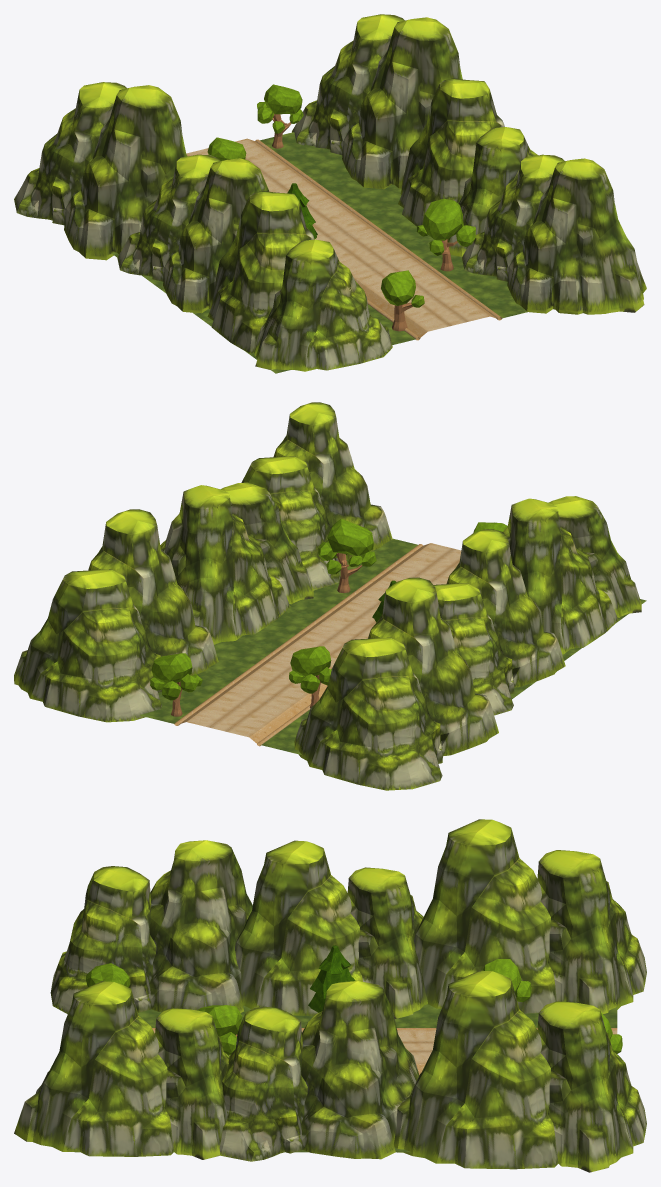
File: fromendlessfbx3.fbx
The picture shows the model from 3 angles, top to bottom: view 1: azimuth 30°, elevation 25°; view 2: azimuth 150°, elevation 25°; view 3: azimuth 270°, elevation 25°; orthographic projection. The views are drawn at different scales.
Parts seen in each view (by area): view 1: track150; view 2: track150; view 3: track150.
Part boxes in pixels (<box>): track150: <box>14,14,646,373</box>; track150: <box>14,402,646,790</box>; track150: <box>14,819,646,1172</box>.
Size of the model in its own units: 15149 by 4820 by 17494.
